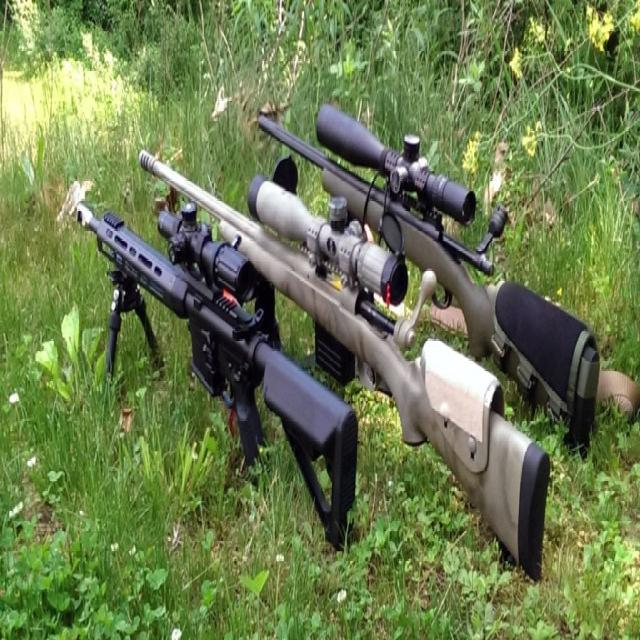Rifle: (135, 153, 550, 584), (257, 106, 601, 450), (71, 186, 360, 551)
